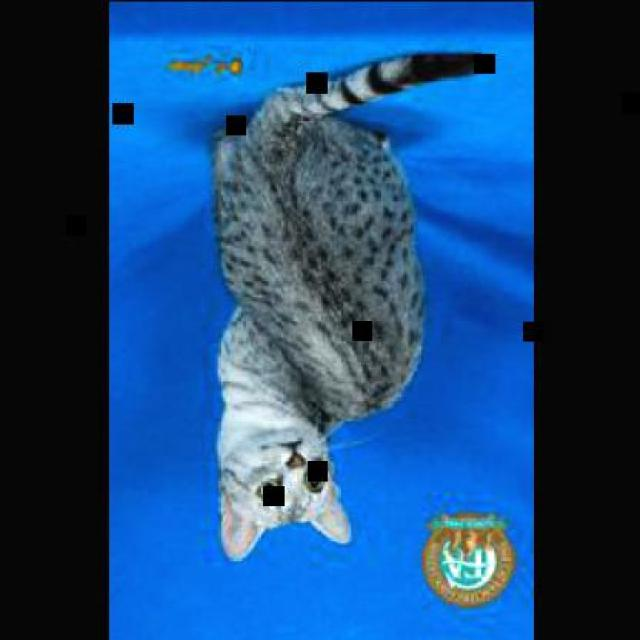unauthorized: (208, 49, 495, 562)
